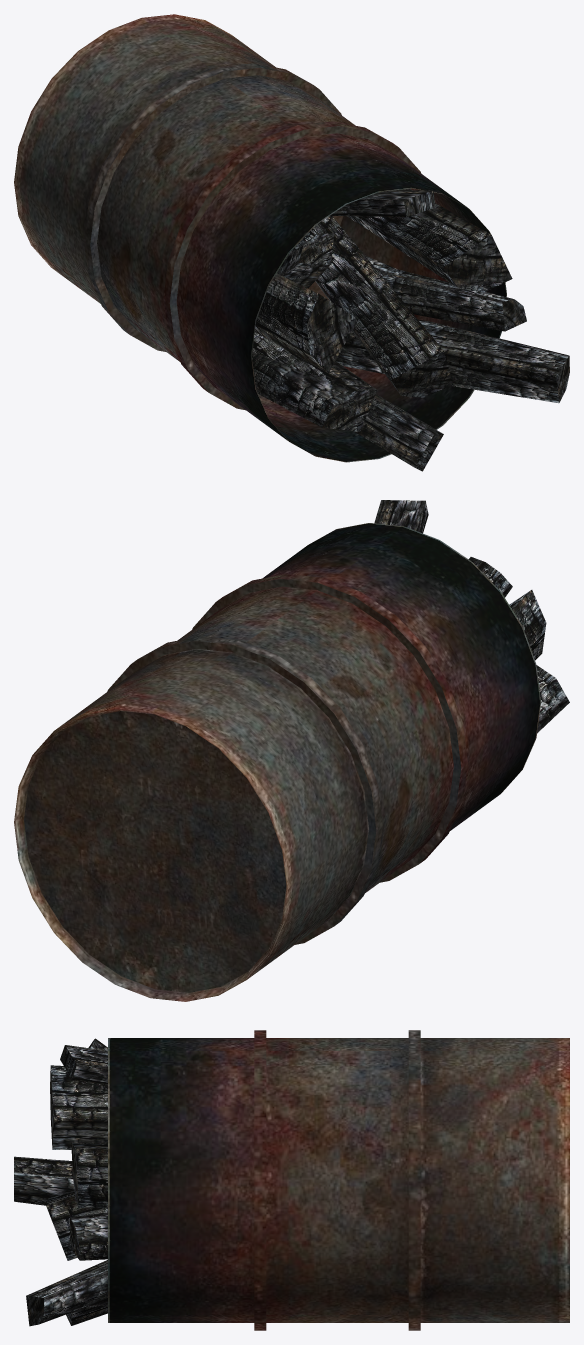
Rendered from prop_firebarrel.glb.
The picture shows the model from 3 angles, top to bottom: view 1: azimuth 30°, elevation 25°; view 2: azimuth 150°, elevation 25°; view 3: azimuth 270°, elevation 25°; orthographic projection. The views are drawn at different scales.
Bounding box in the file's own units: 31.42 × 28.95 × 53.35.
2 materials, 2 textured.
